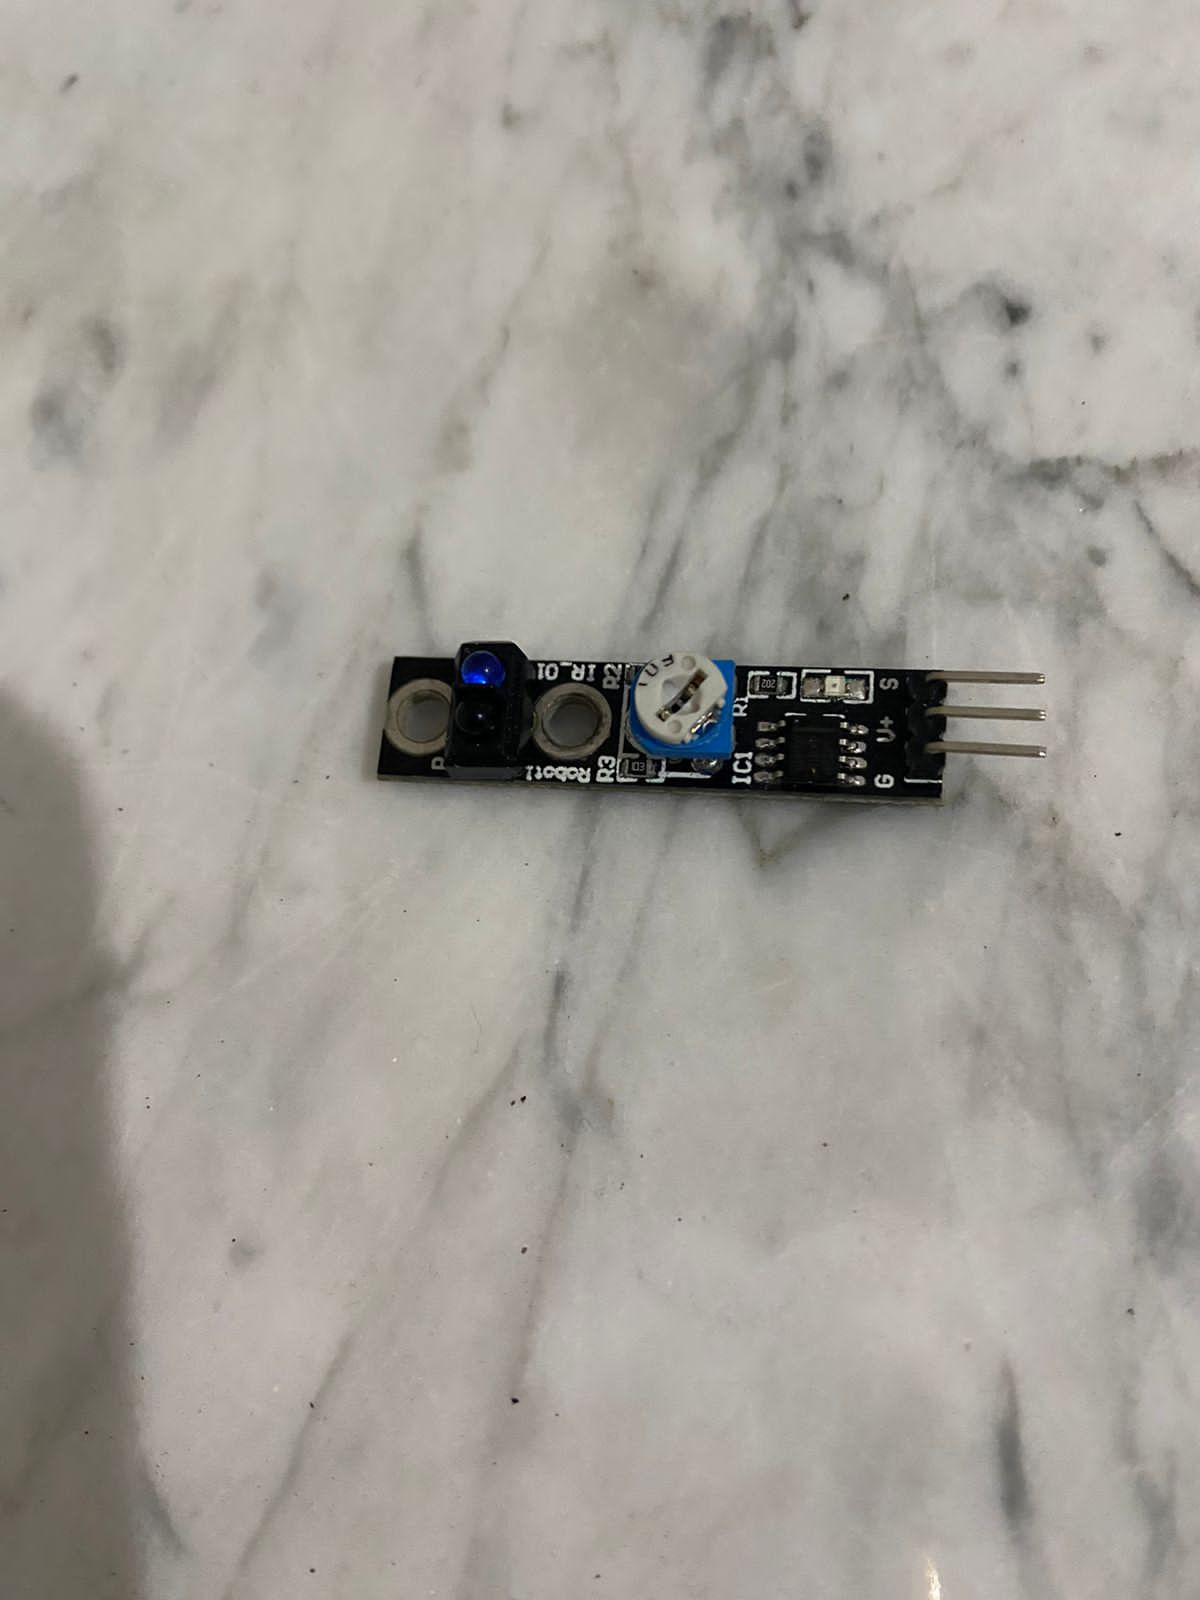ir-sensor: (369, 630, 1058, 843)
